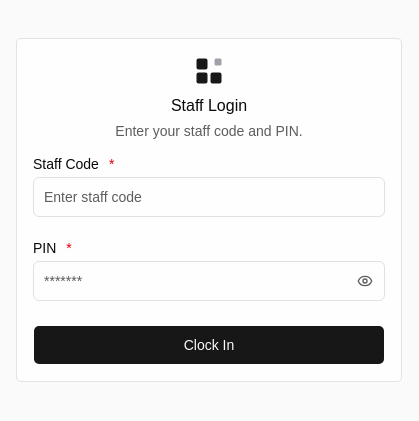
Test: StaffLoginPage › shows accessible errors when submitting an empty form
Step 1. Click the button "Clock In" → x=209, y=345, box [33,325,385,365]
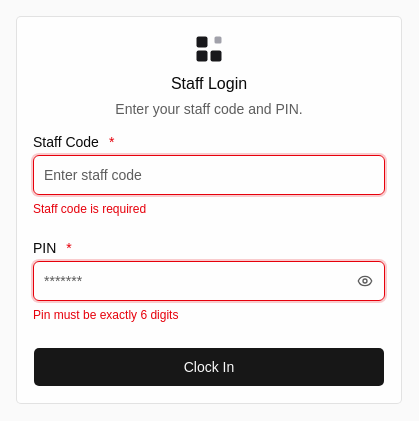
expect the text "Staff code is required" is shown: met, box [33,202,146,216]
expect the text "Pin must be exactly 6 digits" is shown: met, box [33,308,178,322]
